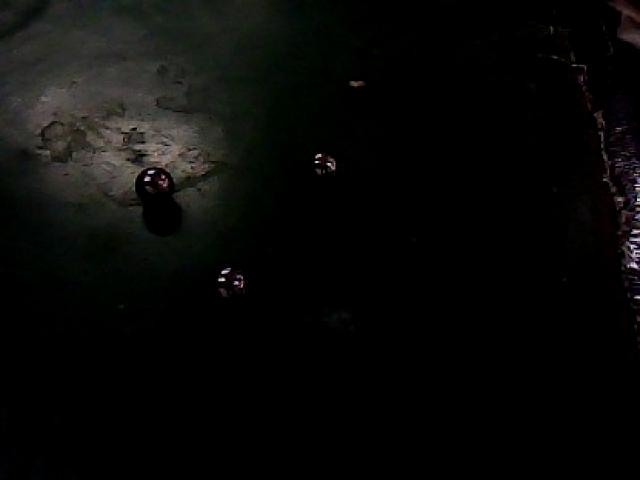steel-ball: (289, 125, 357, 202), (114, 151, 180, 217), (202, 258, 256, 317)
